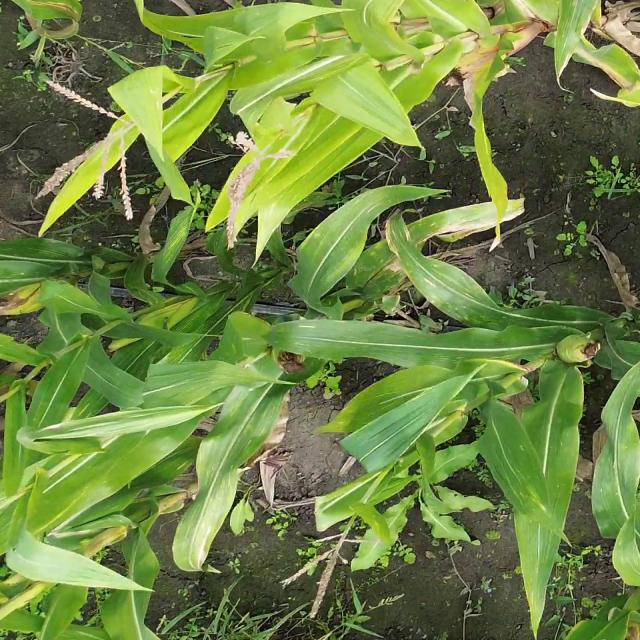gray-leaf-spot: (366, 185, 511, 336), (167, 386, 283, 545), (246, 306, 361, 433), (488, 407, 571, 525)
